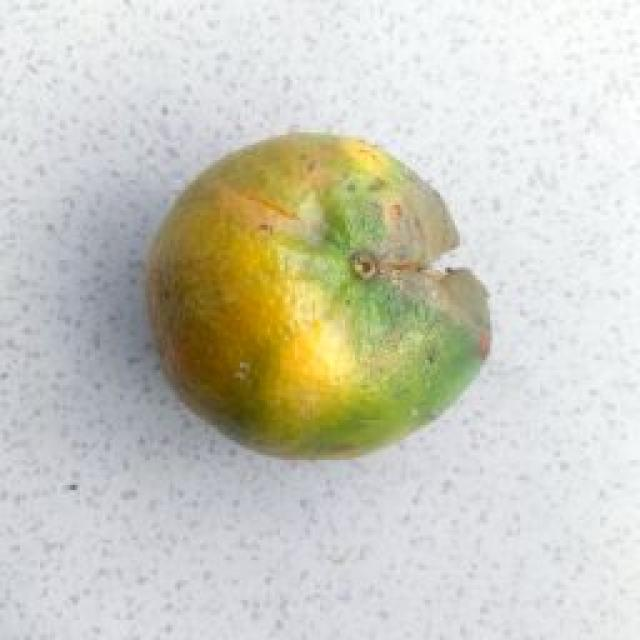Bad_Orange: (149, 132, 490, 457)
